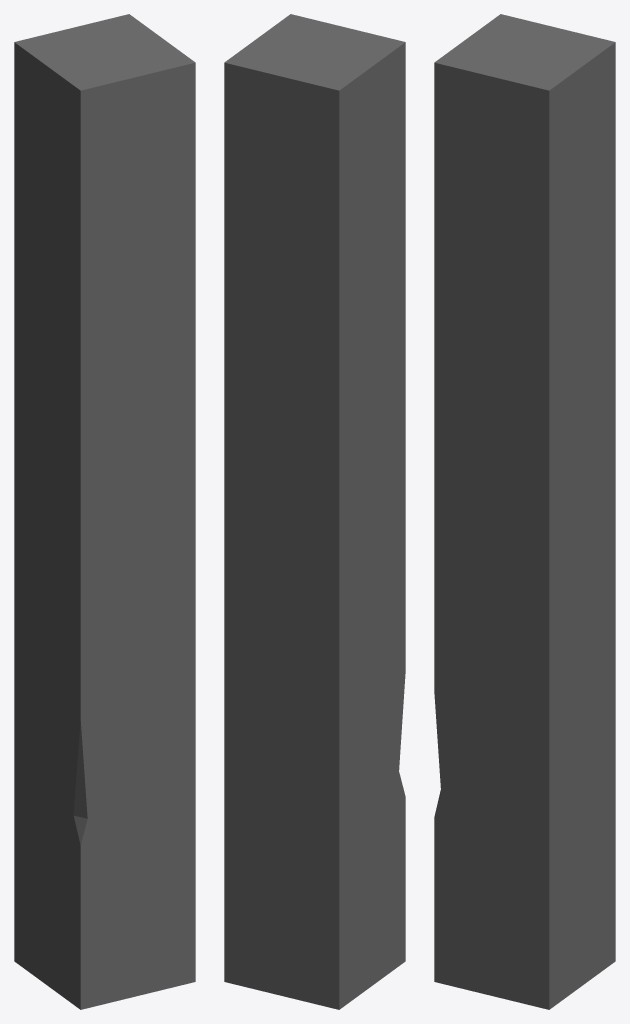
Rendered from WallCorner_01.fbx.
3 views of the same model, side by side, from view 1: azimuth 30°, elevation 25°; view 2: azimuth 150°, elevation 25°; view 3: azimuth 330°, elevation 25° (orthographic).
Visible parts, largest first — view 1: WallCorner_01; view 2: WallCorner_01; view 3: WallCorner_01.
Part boxes in pixels (bbox=[...]): WallCorner_01: bbox=[14, 14, 195, 1009]; WallCorner_01: bbox=[224, 14, 405, 1009]; WallCorner_01: bbox=[434, 14, 615, 1009].
Size of the model in its own units: 49.76 by 380 by 49.76.
